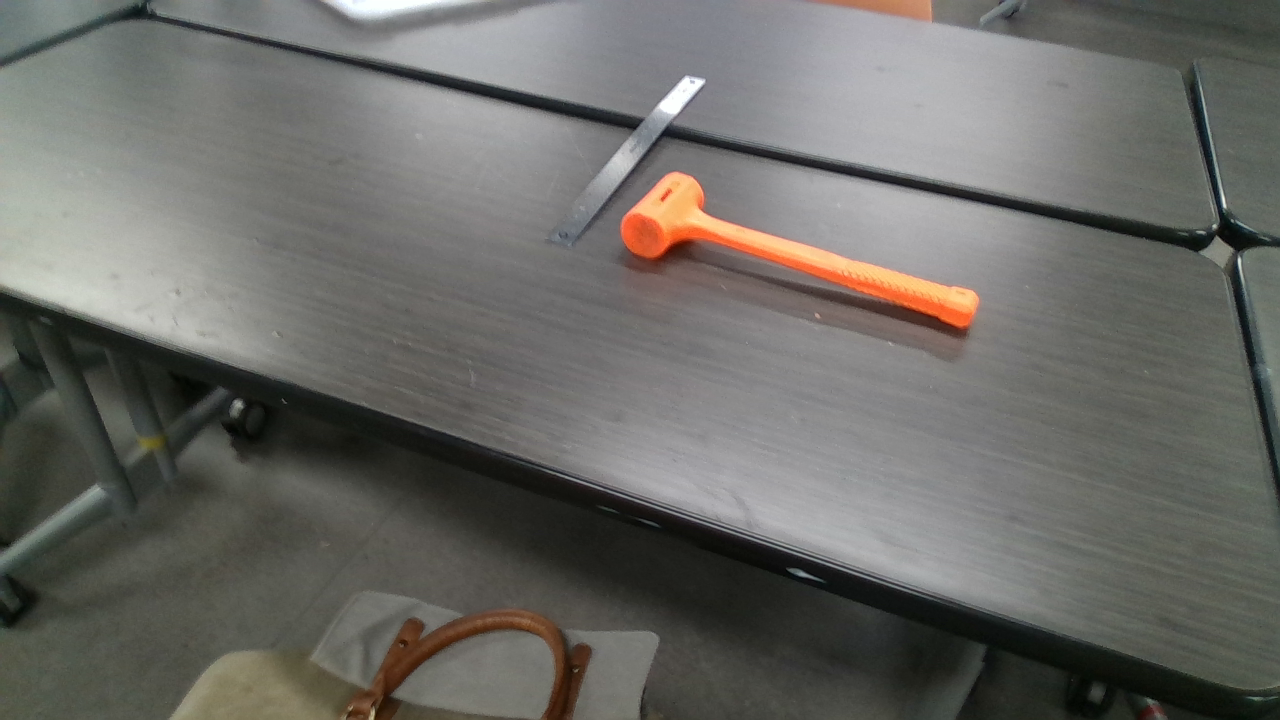Orange Hammer: (623, 173, 976, 326)
